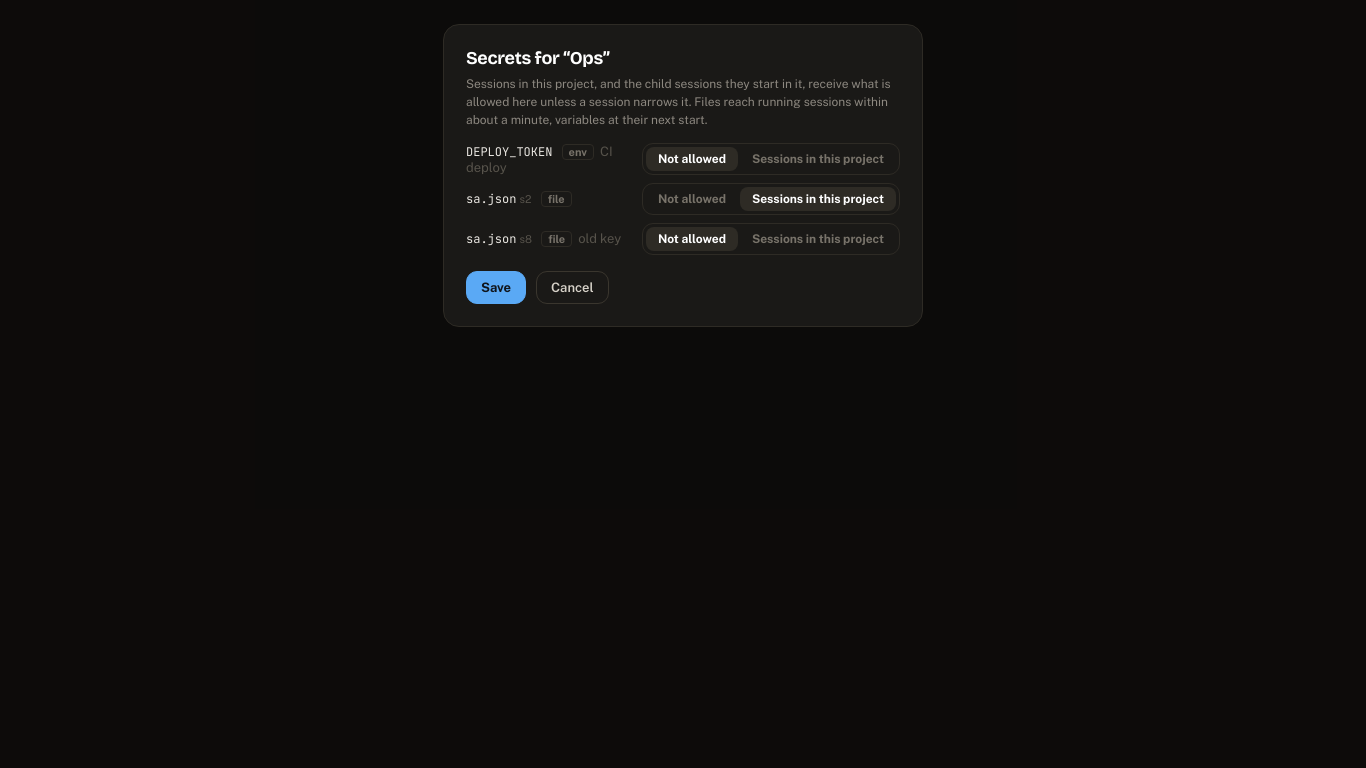
Test: a project selects secrets › refuses to save a selection with two files of the same name, before asking the hub
This screenshot has width=1366, height=768.
Click the radio button labelled "Sessions in this project" in the row of "old key" at (818, 239), box [740, 227, 896, 251]
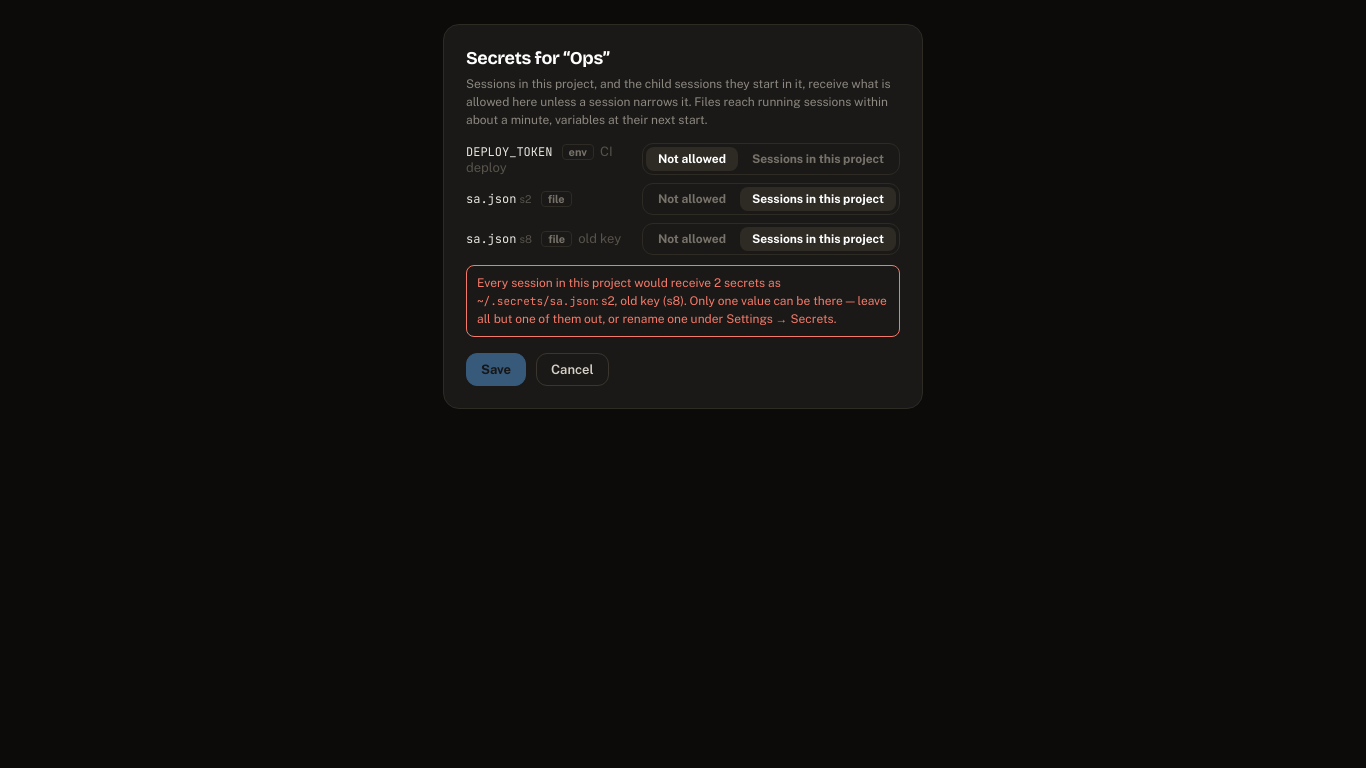
Expected: the message shows "Every session in this project would receive 2 secrets as ~/.secrets/sa.json", [466, 265, 900, 337]
Expected: the button "Save" is disabled, [466, 353, 526, 386]
